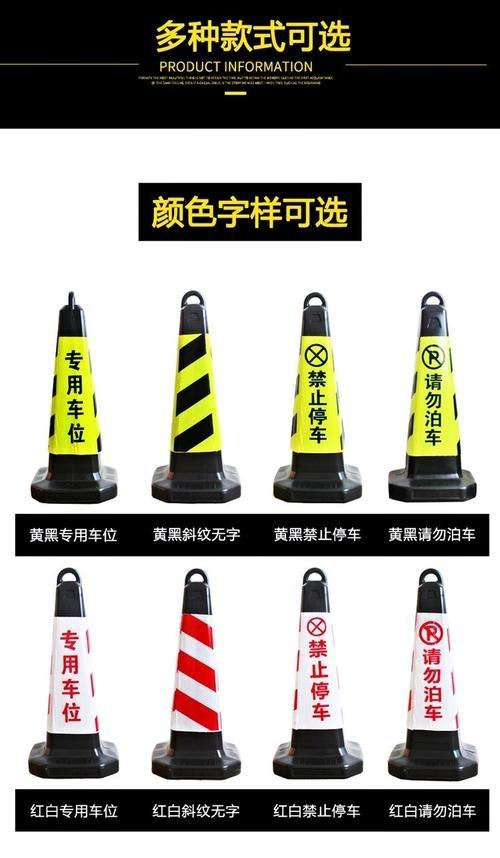cone_barrel: (148, 293, 241, 504), (25, 571, 115, 779), (150, 572, 239, 782), (271, 294, 360, 500), (391, 572, 477, 782), (272, 570, 359, 777), (390, 293, 475, 502), (30, 295, 115, 503)
